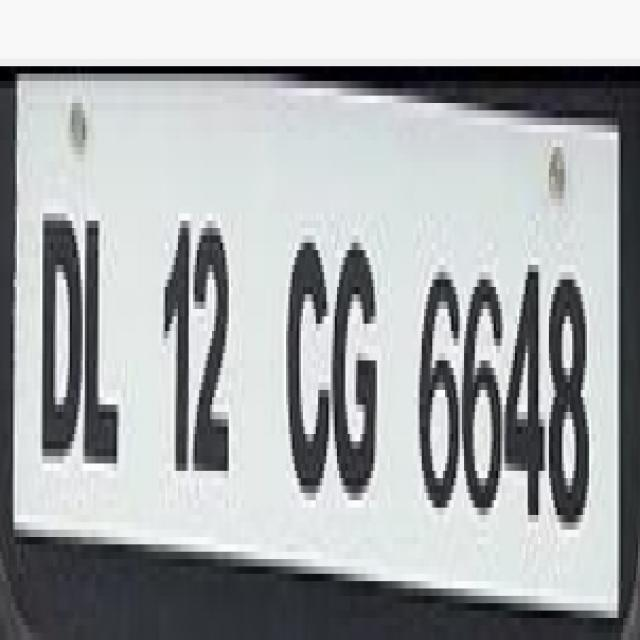1: (160, 208, 192, 482)
4: (504, 250, 546, 539)
6: (418, 261, 460, 516), (461, 266, 502, 516)
8: (549, 250, 594, 548)
C: (283, 226, 332, 504)
D: (37, 199, 81, 475)
G: (332, 230, 383, 519)
L: (83, 210, 120, 482)
